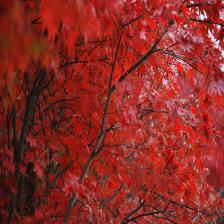red: (129, 87, 224, 201)
